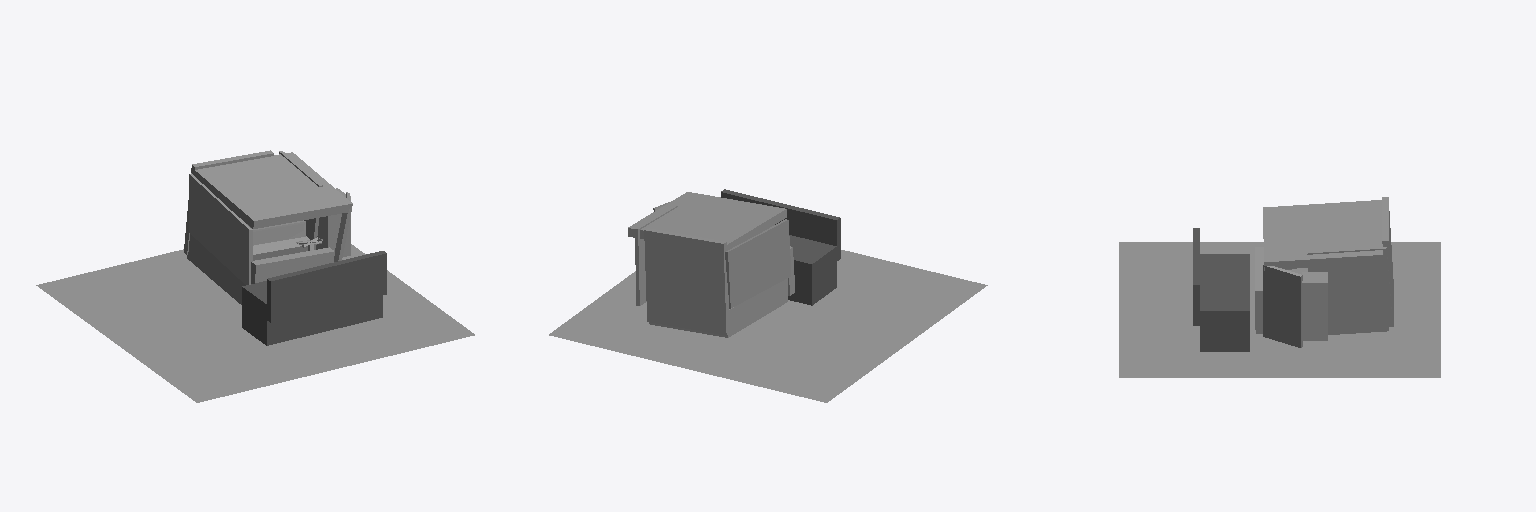
The model's file is truck_simple_1_2_up.obj.
3 renders of one model, left to right at view 1: azimuth 30°, elevation 25°; view 2: azimuth 150°, elevation 25°; view 3: azimuth 270°, elevation 25°, orthographic.
Visible parts, largest first — view 1: Plane.003, Cube.068, Cube.000_Cube.039, Cube.001_Cube.012, Cube.053, Cube.001_Cube.001, Cube.064, Cube.043, Cube.059, Cube.066, Plane.002; view 2: Plane.003, Cube.066, Cube.068, Cube.053, Cube.001_Cube.012, Cube.000_Cube.039, Cube.064, Cube.063; view 3: Plane.003, Cube.068, Cube.001_Cube.012, Cube.063, Cube.071, Cube.043, Cube.066, Cube.064, Cube.001_Cube.001, Cube.000_Cube.039.
Boxes of the visible parts, x1=… form: Plane.003: x1=36, y1=244, x2=474, y2=402; Cube.068: x1=194, y1=152, x2=352, y2=228; Cube.000_Cube.039: x1=267, y1=251, x2=386, y2=322; Cube.001_Cube.012: x1=242, y1=281, x2=382, y2=345; Cube.053: x1=189, y1=173, x2=252, y2=284; Cube.001_Cube.001: x1=251, y1=247, x2=334, y2=283; Cube.064: x1=187, y1=234, x2=245, y2=304; Cube.043: x1=316, y1=188, x2=350, y2=256; Cube.059: x1=253, y1=236, x2=309, y2=260; Cube.066: x1=184, y1=150, x2=273, y2=254; Plane.002: x1=253, y1=223, x2=304, y2=244; Plane.003: x1=549, y1=250, x2=987, y2=402; Cube.066: x1=644, y1=228, x2=729, y2=335; Cube.068: x1=628, y1=192, x2=786, y2=250; Cube.053: x1=725, y1=219, x2=790, y2=308; Cube.001_Cube.012: x1=788, y1=235, x2=836, y2=305; Cube.000_Cube.039: x1=721, y1=189, x2=840, y2=260; Cube.064: x1=649, y1=278, x2=787, y2=337; Cube.063: x1=635, y1=205, x2=677, y2=305; Plane.003: x1=1119, y1=242, x2=1440, y2=377; Cube.068: x1=1263, y1=200, x2=1383, y2=270; Cube.001_Cube.012: x1=1200, y1=254, x2=1249, y2=351; Cube.063: x1=1307, y1=247, x2=1391, y2=323; Cube.071: x1=1263, y1=264, x2=1302, y2=347; Cube.043: x1=1302, y1=272, x2=1327, y2=340; Cube.066: x1=1382, y1=197, x2=1393, y2=326; Cube.064: x1=1288, y1=270, x2=1388, y2=334; Cube.001_Cube.001: x1=1255, y1=247, x2=1263, y2=333; Cube.000_Cube.039: x1=1193, y1=228, x2=1199, y2=325.
Size of the model in its own units: 7.69 by 2.86 by 7.69.